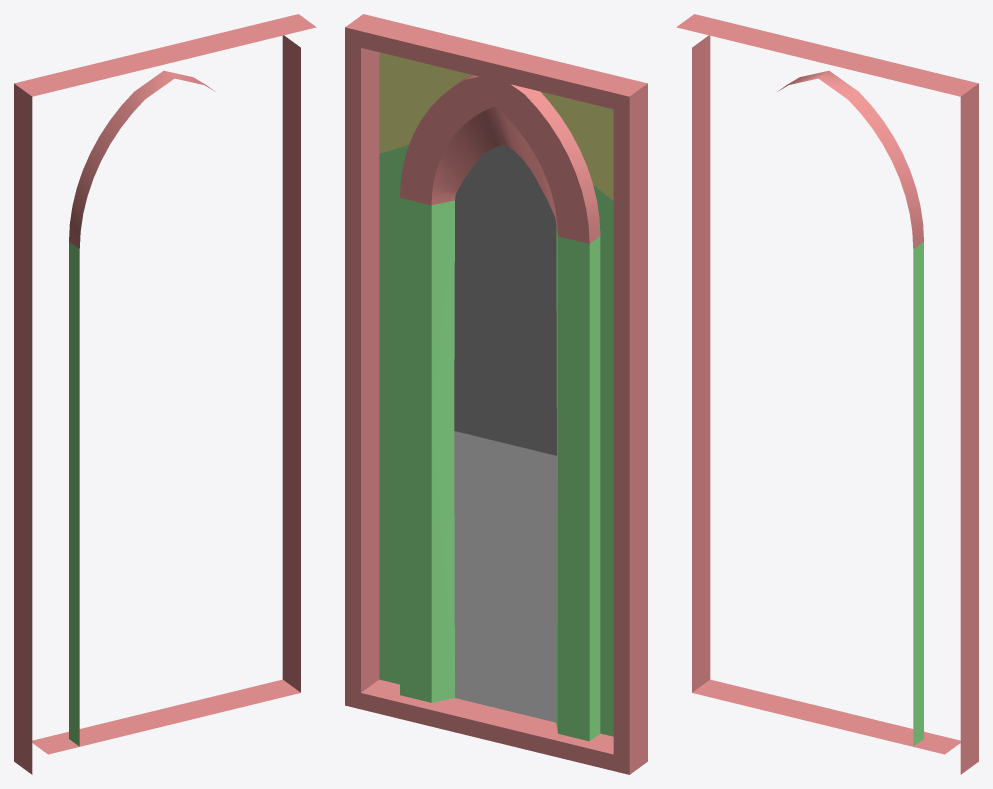
The model's file is sylentemple_deco01.gltf.
3 views of the same model, side by side, from view 1: azimuth 30°, elevation 25°; view 2: azimuth 150°, elevation 25°; view 3: azimuth 330°, elevation 25° (orthographic).
Parts seen in each view (by area): view 1: sylentemple_deco01; view 2: sylentemple_deco01; view 3: sylentemple_deco01.
Part boxes in pixels (<box>): sylentemple_deco01: <box>14,14,316,774</box>; sylentemple_deco01: <box>345,14,647,774</box>; sylentemple_deco01: <box>676,14,978,774</box>.
Size of the model in its own units: 2.88 by 6.56 by 0.32.
